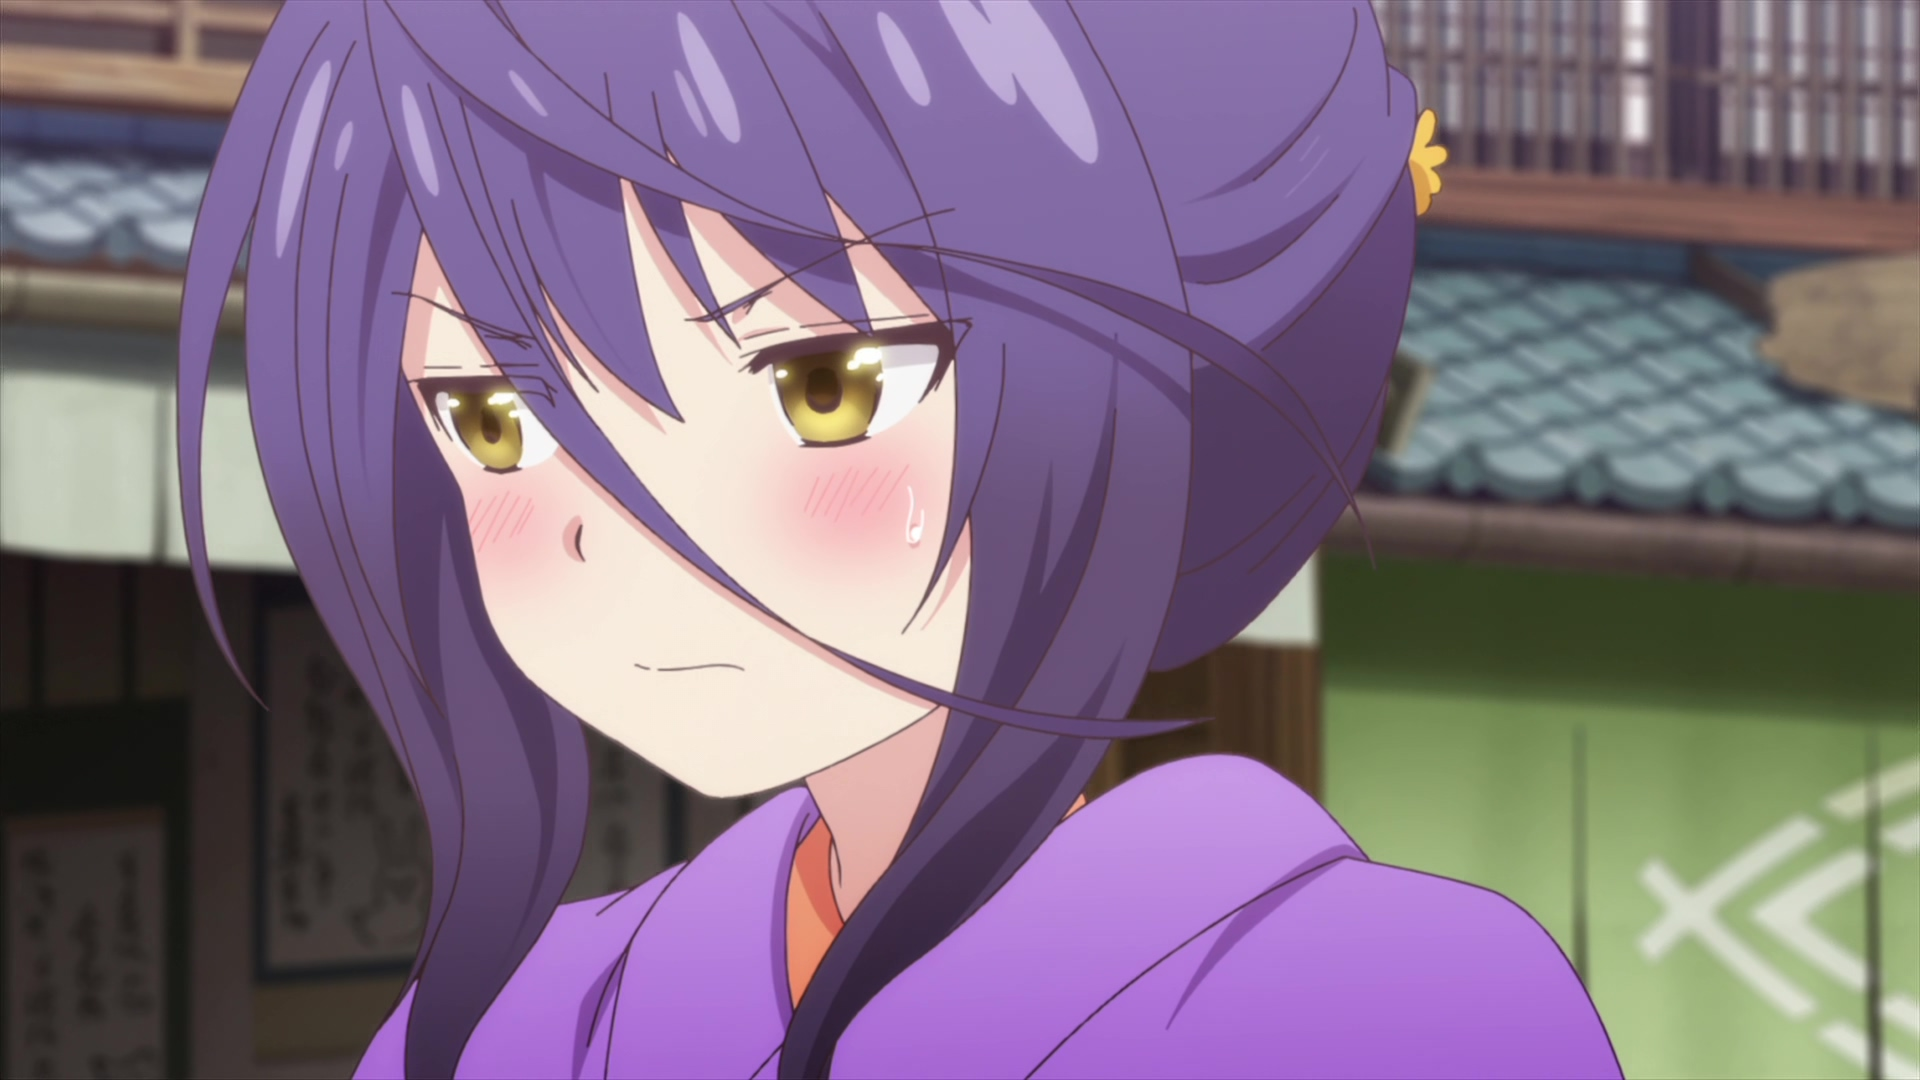皋: (173, 1, 1633, 1080)
